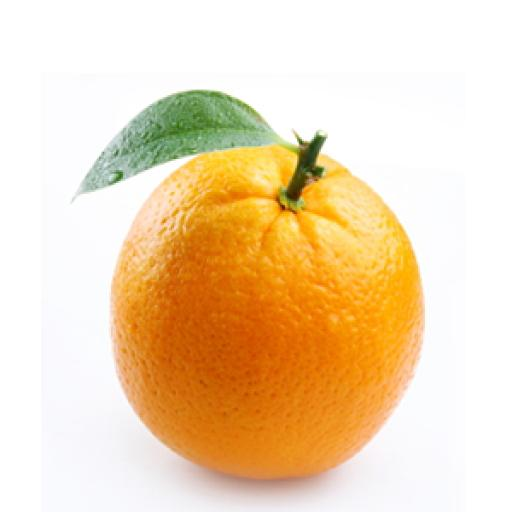orange: (80, 93, 422, 475)
